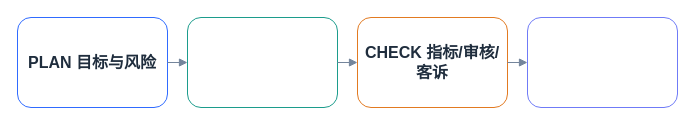
This 695x125 diagram has some shape labels left out. Here are the shapes that lost their labels. From the top down, the centre of each, then its label:
At point 262,62: "DO 执行与记录".
At point 602,62: "ACT 纠正/预防/标准化".
